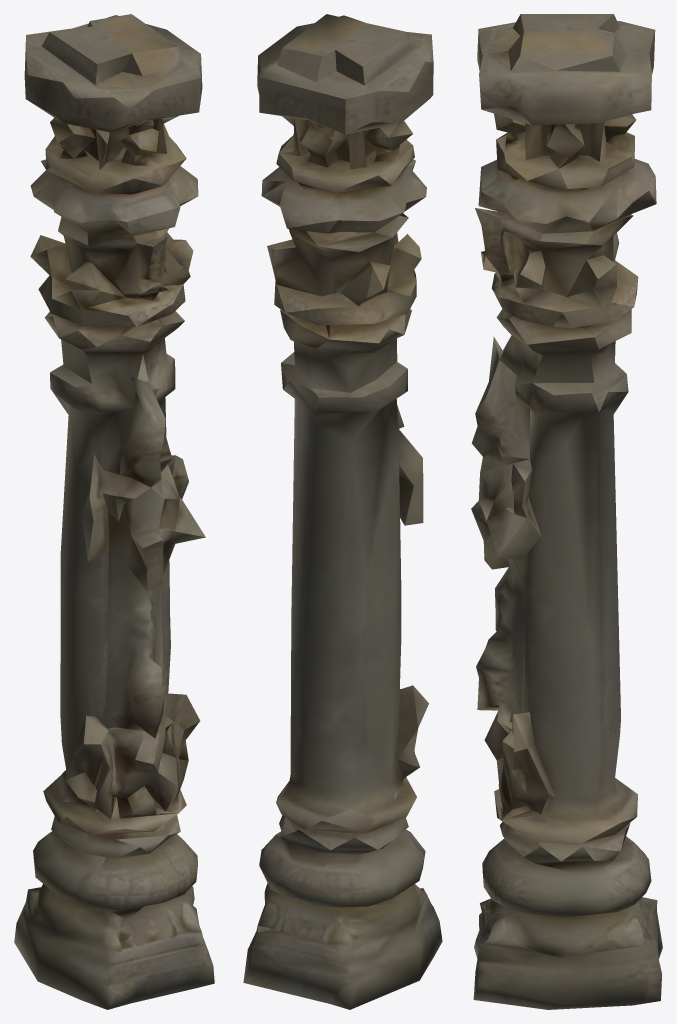
File: pillar3.glb
The picture shows the model from 3 angles, left to right: view 1: azimuth 30°, elevation 25°; view 2: azimuth 150°, elevation 25°; view 3: azimuth 270°, elevation 25°; orthographic projection.
Parts seen in each view (by area): view 1: pillar3; view 2: pillar3; view 3: pillar3.
Part boxes in pixels (x1,y1,x2,y2): pillar3: [14, 14, 214, 1009]; pillar3: [243, 14, 442, 1009]; pillar3: [471, 14, 662, 1009].
Size of the model in its own units: 0.1307 by 0.7514 by 0.1385.
Materials: 1 (1 with a texture image).
